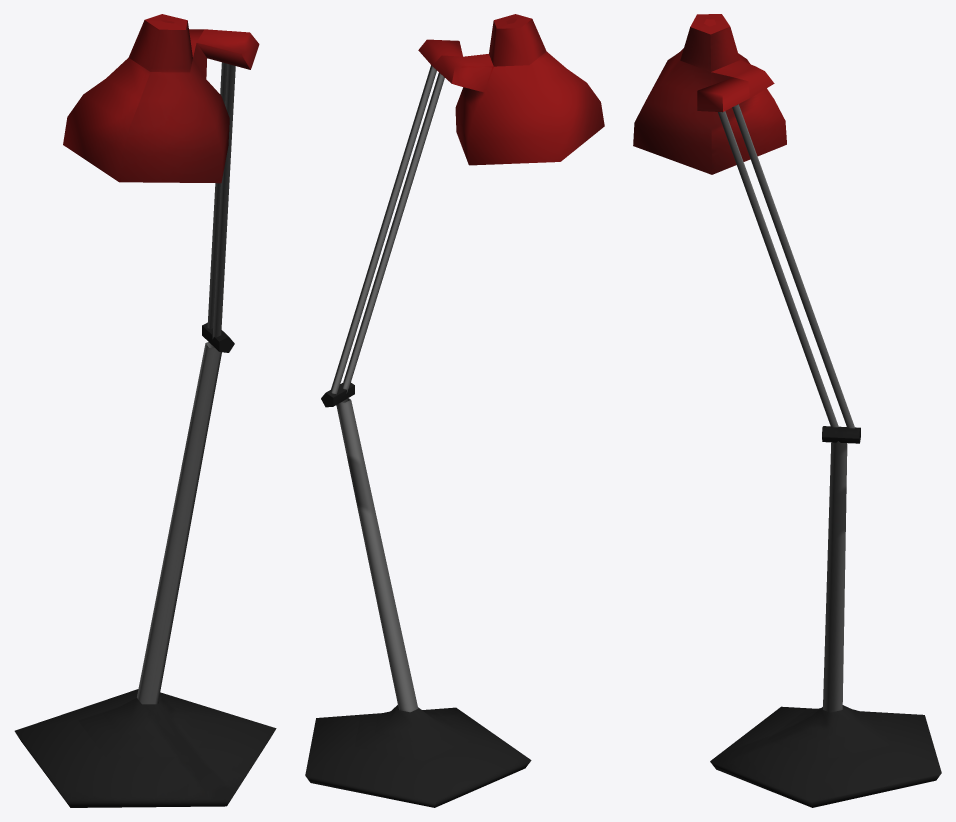
Rendered from Tx_props_floorlamp_51.fbx.
3 views of the same model, side by side, from view 1: azimuth 30°, elevation 25°; view 2: azimuth 150°, elevation 25°; view 3: azimuth 270°, elevation 25° (orthographic). The views are drawn at different scales.
Visible parts, largest first — view 1: Tx_props_floorlamp_8; view 2: Tx_props_floorlamp_8; view 3: Tx_props_floorlamp_8.
Part boxes in pixels (x1,y1,x2,y2): Tx_props_floorlamp_8: (14, 14, 276, 807); Tx_props_floorlamp_8: (305, 14, 604, 807); Tx_props_floorlamp_8: (633, 14, 941, 807).
Bounding box in the file's own units: 2.91 × 9.11 × 3.53.
